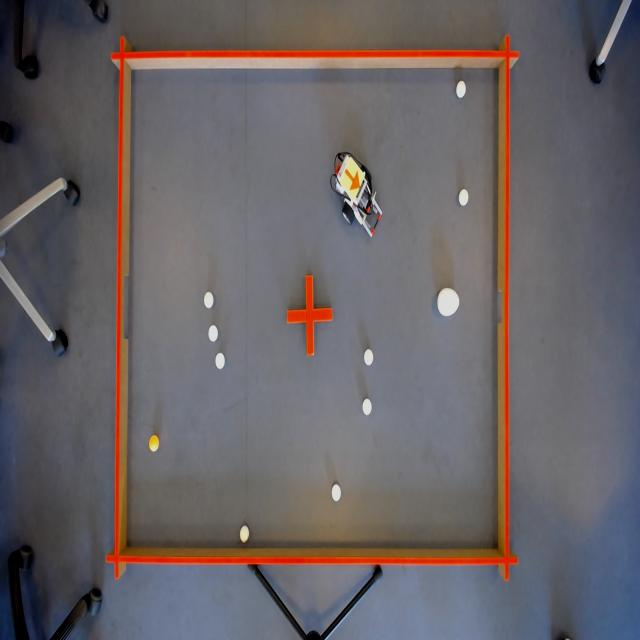cross: (286, 272, 334, 359)
egg: (435, 285, 461, 319)
orange_ball: (148, 432, 160, 457)
robot: (339, 156, 366, 206)
white_ball: (360, 395, 373, 422), (202, 287, 216, 312), (362, 346, 376, 370), (454, 77, 468, 101), (207, 321, 220, 346), (330, 480, 342, 506), (238, 523, 252, 545), (458, 187, 470, 210), (215, 350, 227, 371)
